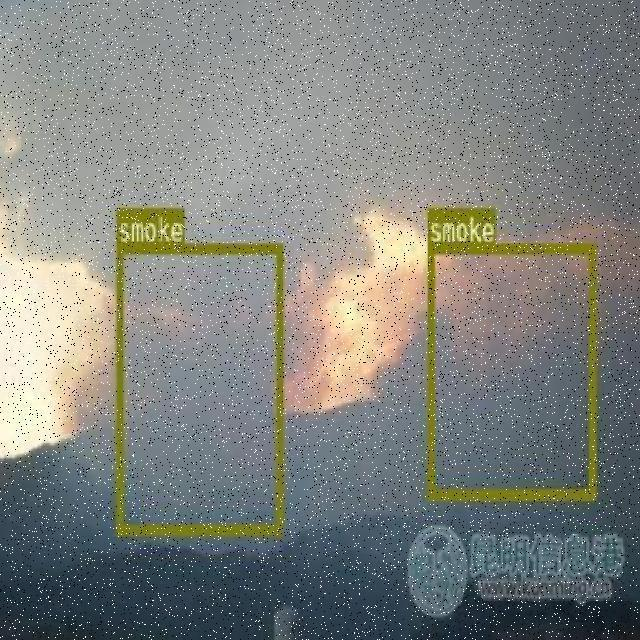Fire: (1, 112, 116, 472), (283, 208, 438, 419)
Smoke: (116, 243, 281, 532), (427, 243, 595, 497)
